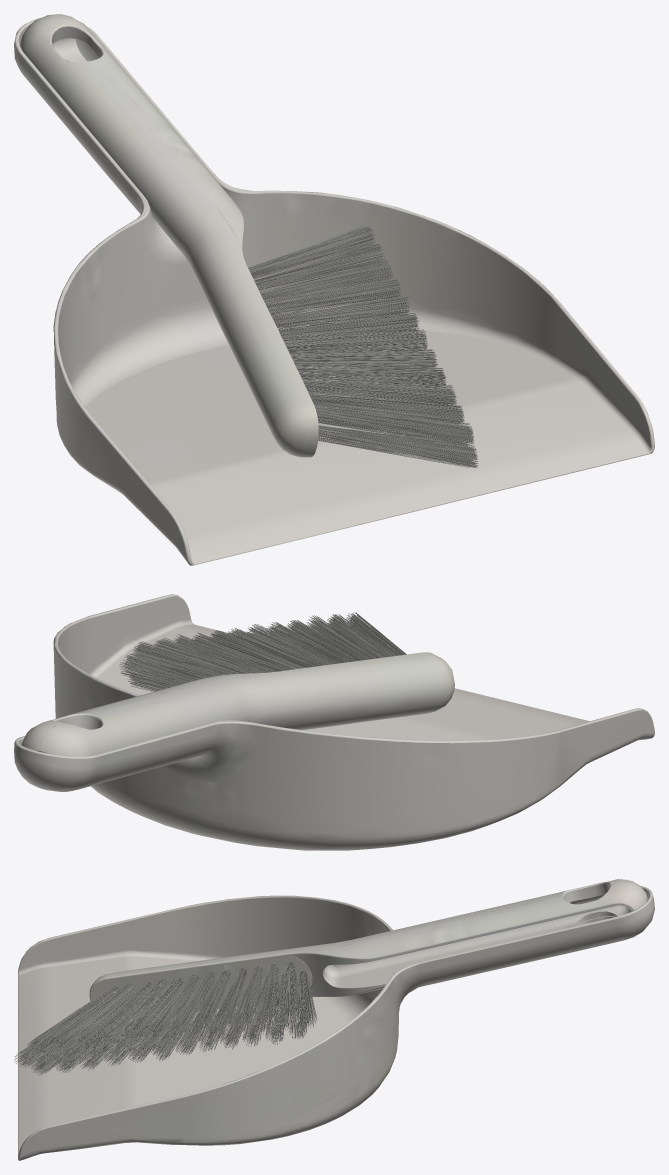
File: PEPPRIG pel+balay gris.glb
3 renders of one model, top to bottom at view 1: azimuth 30°, elevation 25°; view 2: azimuth 150°, elevation 25°; view 3: azimuth 270°, elevation 25°, orthographic. The views are drawn at different scales.
Parts seen in each view (by area): view 1: model; view 2: model; view 3: model.
Part boxes in pixels (x1,y1,x2,y2): model: [14, 14, 654, 565]; model: [14, 594, 654, 850]; model: [14, 879, 654, 1160].
Bounding box in the file's own units: 0.1819 × 0.0823 × 0.259.
Materials: 1 (1 with a texture image).
